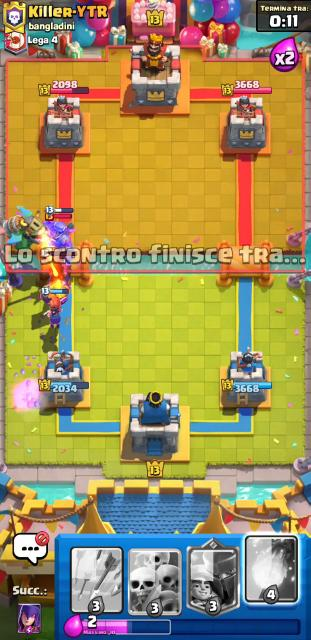ally_melee: (1, 206, 50, 253), (44, 206, 76, 266), (40, 285, 71, 327)
enemy_melee: (39, 250, 74, 313)
